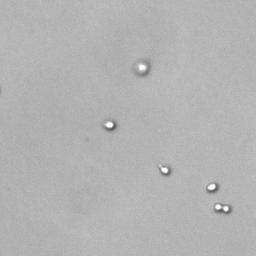budding: (212, 200, 232, 215)
cluster: (155, 161, 173, 178)
individual: (132, 58, 154, 78), (100, 119, 119, 131), (205, 181, 219, 193)
